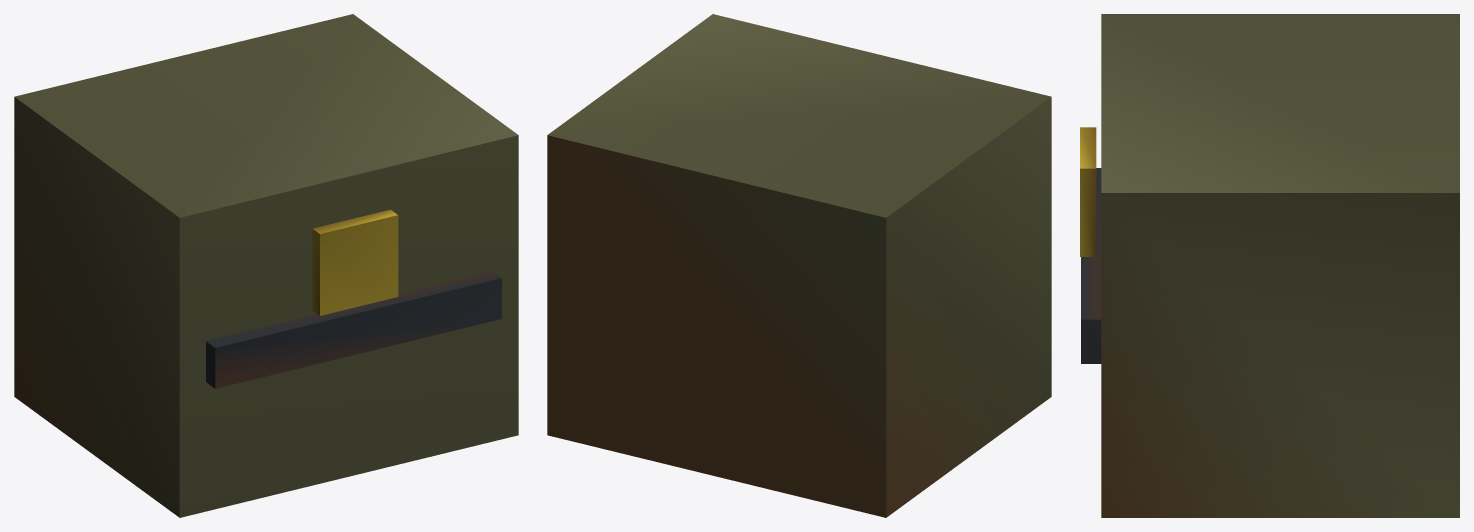
File: crate.glb
The picture shows the model from 3 angles, left to right: view 1: azimuth 30°, elevation 25°; view 2: azimuth 150°, elevation 25°; view 3: azimuth 270°, elevation 25°; orthographic projection. The views are drawn at different scales.
Visible parts, largest first — view 1: crate; view 2: crate; view 3: crate.
Part boxes in pixels (x1,y1,x2,y2): crate: (14, 14, 518, 517); crate: (547, 14, 1051, 517); crate: (1080, 14, 1459, 517).
Size of the model in its own units: 26 by 22 by 23.3.
